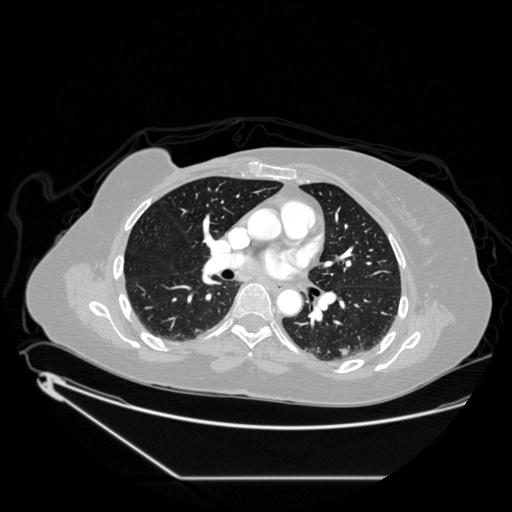nodule: (338, 347, 349, 358)
